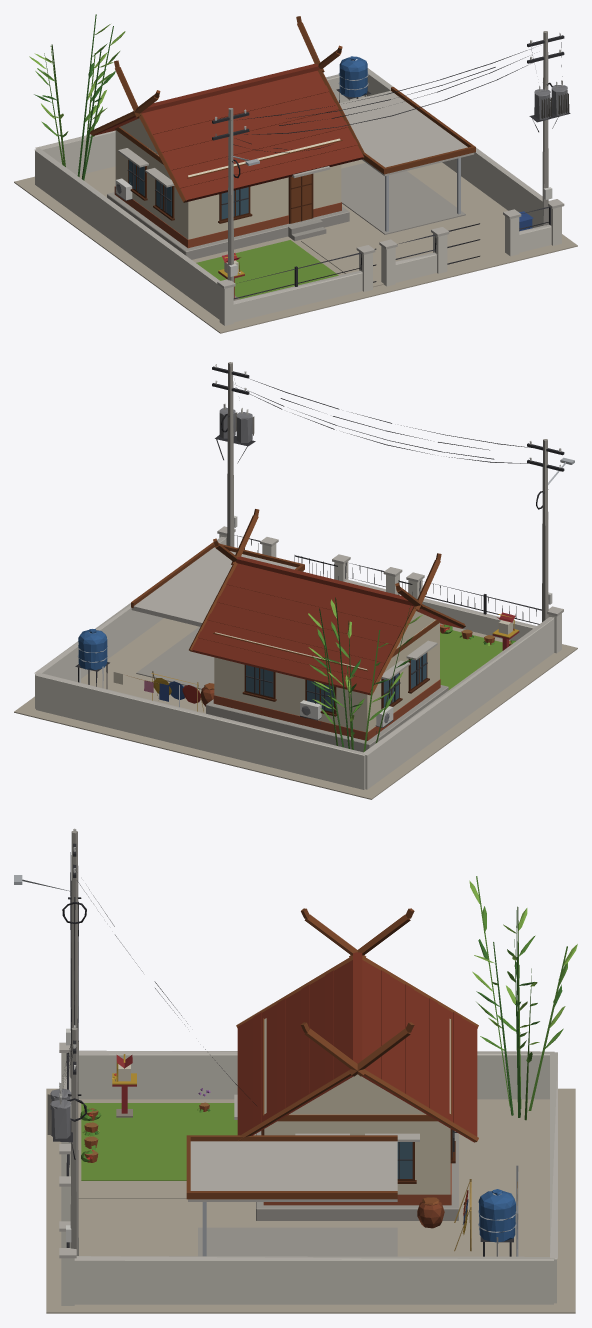
File: home_1.glb
3 renders of one model, top to bottom at view 1: azimuth 30°, elevation 25°; view 2: azimuth 150°, elevation 25°; view 3: azimuth 270°, elevation 25°, orthographic. The views are drawn at different scales.
Parts seen in each view (by area): view 1: body, windows; view 2: body, windows; view 3: body, windows.
Part boxes in pixels (x1,y1,x2,y2): body: (14, 14, 577, 333); windows: (129, 160, 248, 219); body: (14, 362, 577, 799); windows: (246, 653, 426, 711); body: (14, 828, 577, 1313); windows: (397, 1130, 452, 1178).
Bounding box in the file's own units: 16.39 × 9.31 × 16.95.
